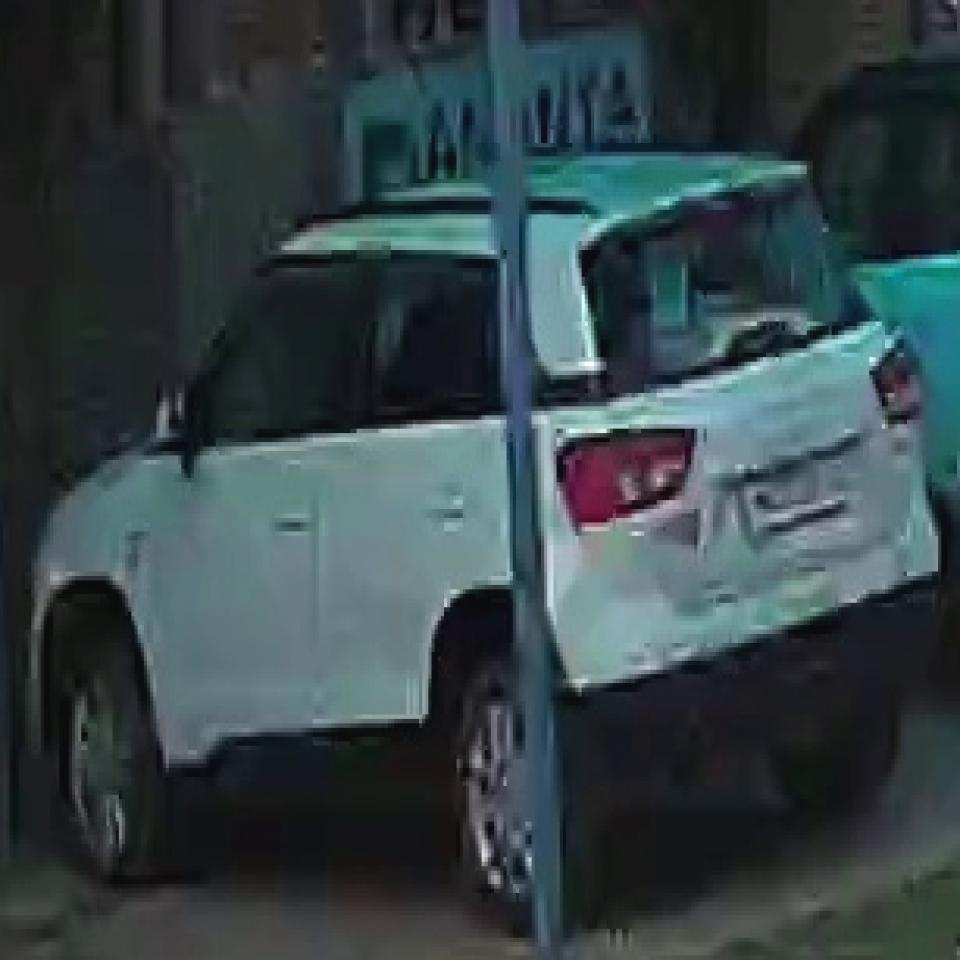tail_light: (558, 424, 700, 530), (871, 342, 926, 422)
